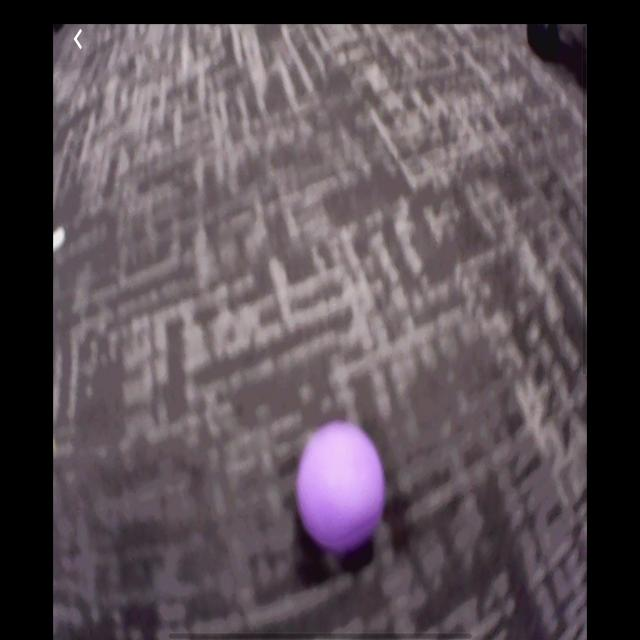ball: (295, 422, 386, 549)
